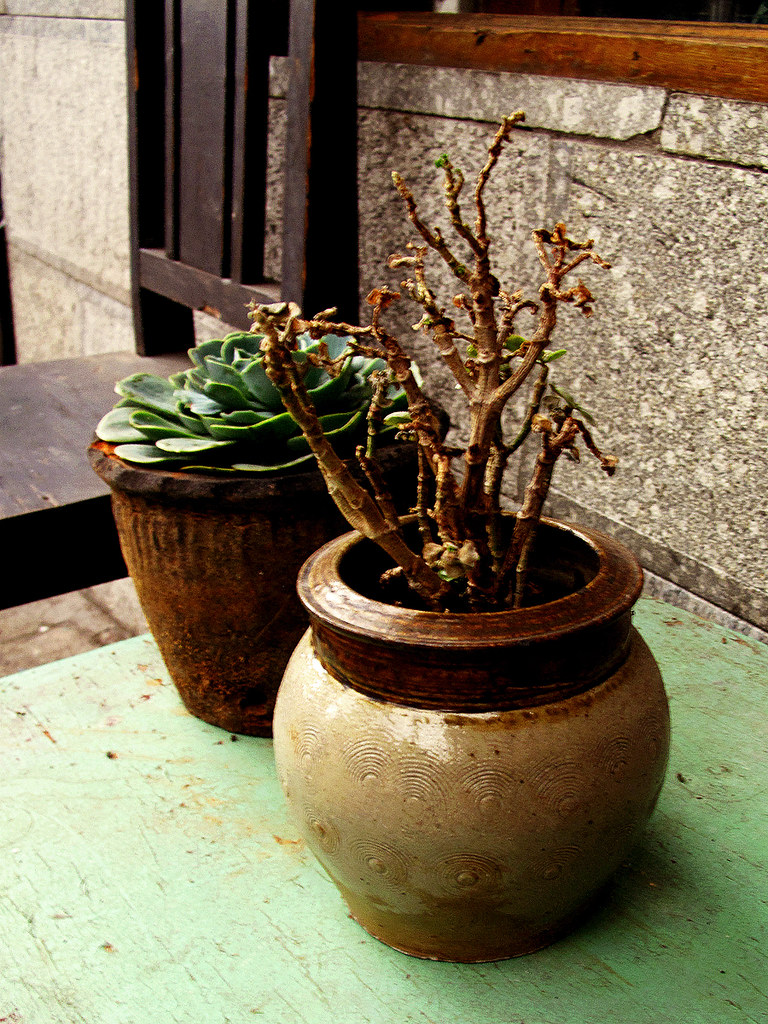potted plant: (295, 242, 673, 969), (94, 310, 401, 730)
